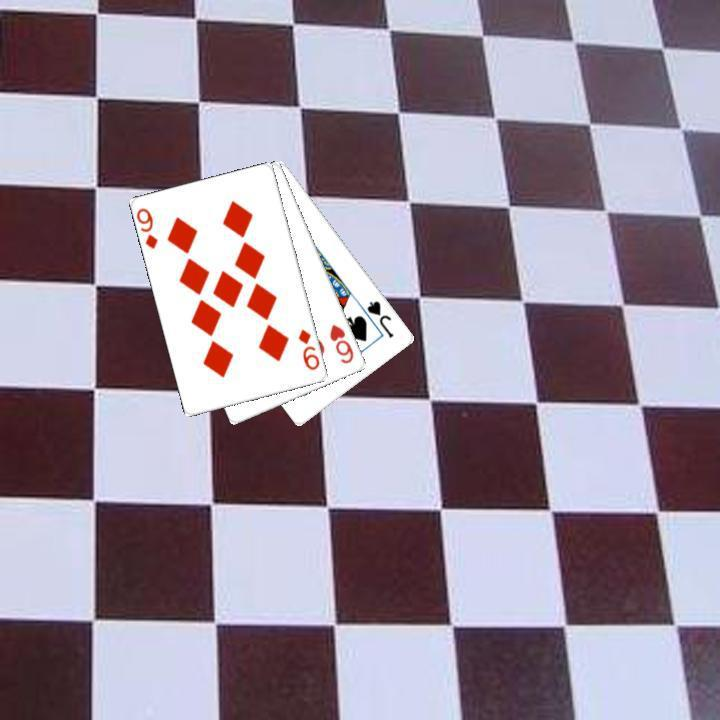6: (325, 320, 356, 366)
9: (294, 325, 322, 372), (133, 204, 160, 251)
J: (363, 296, 396, 340)
